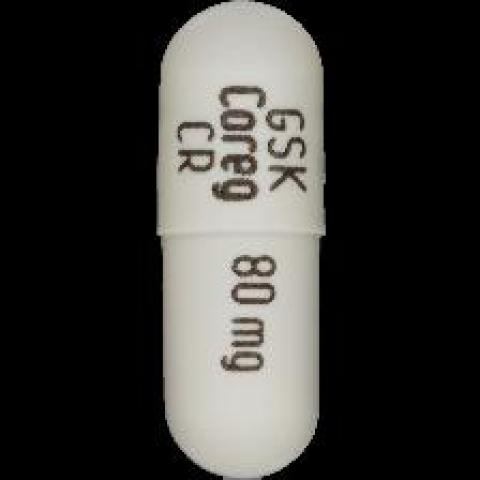Pill: (146, 2, 385, 480)
